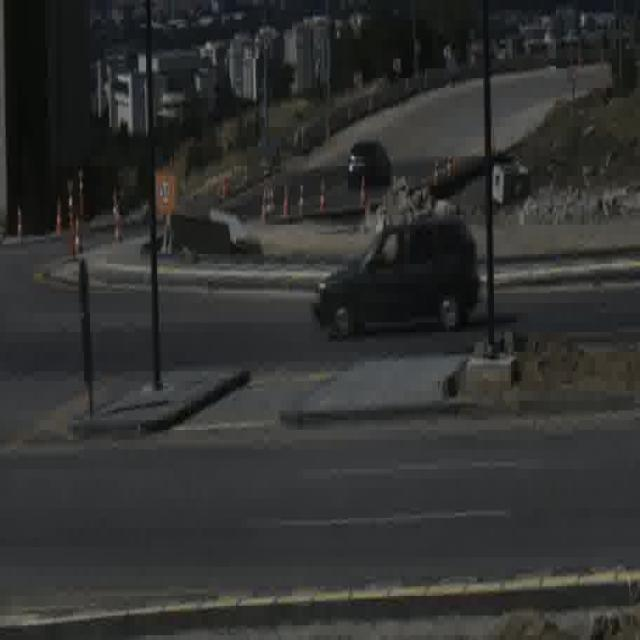Car: (311, 218, 475, 350), (347, 138, 393, 188)
